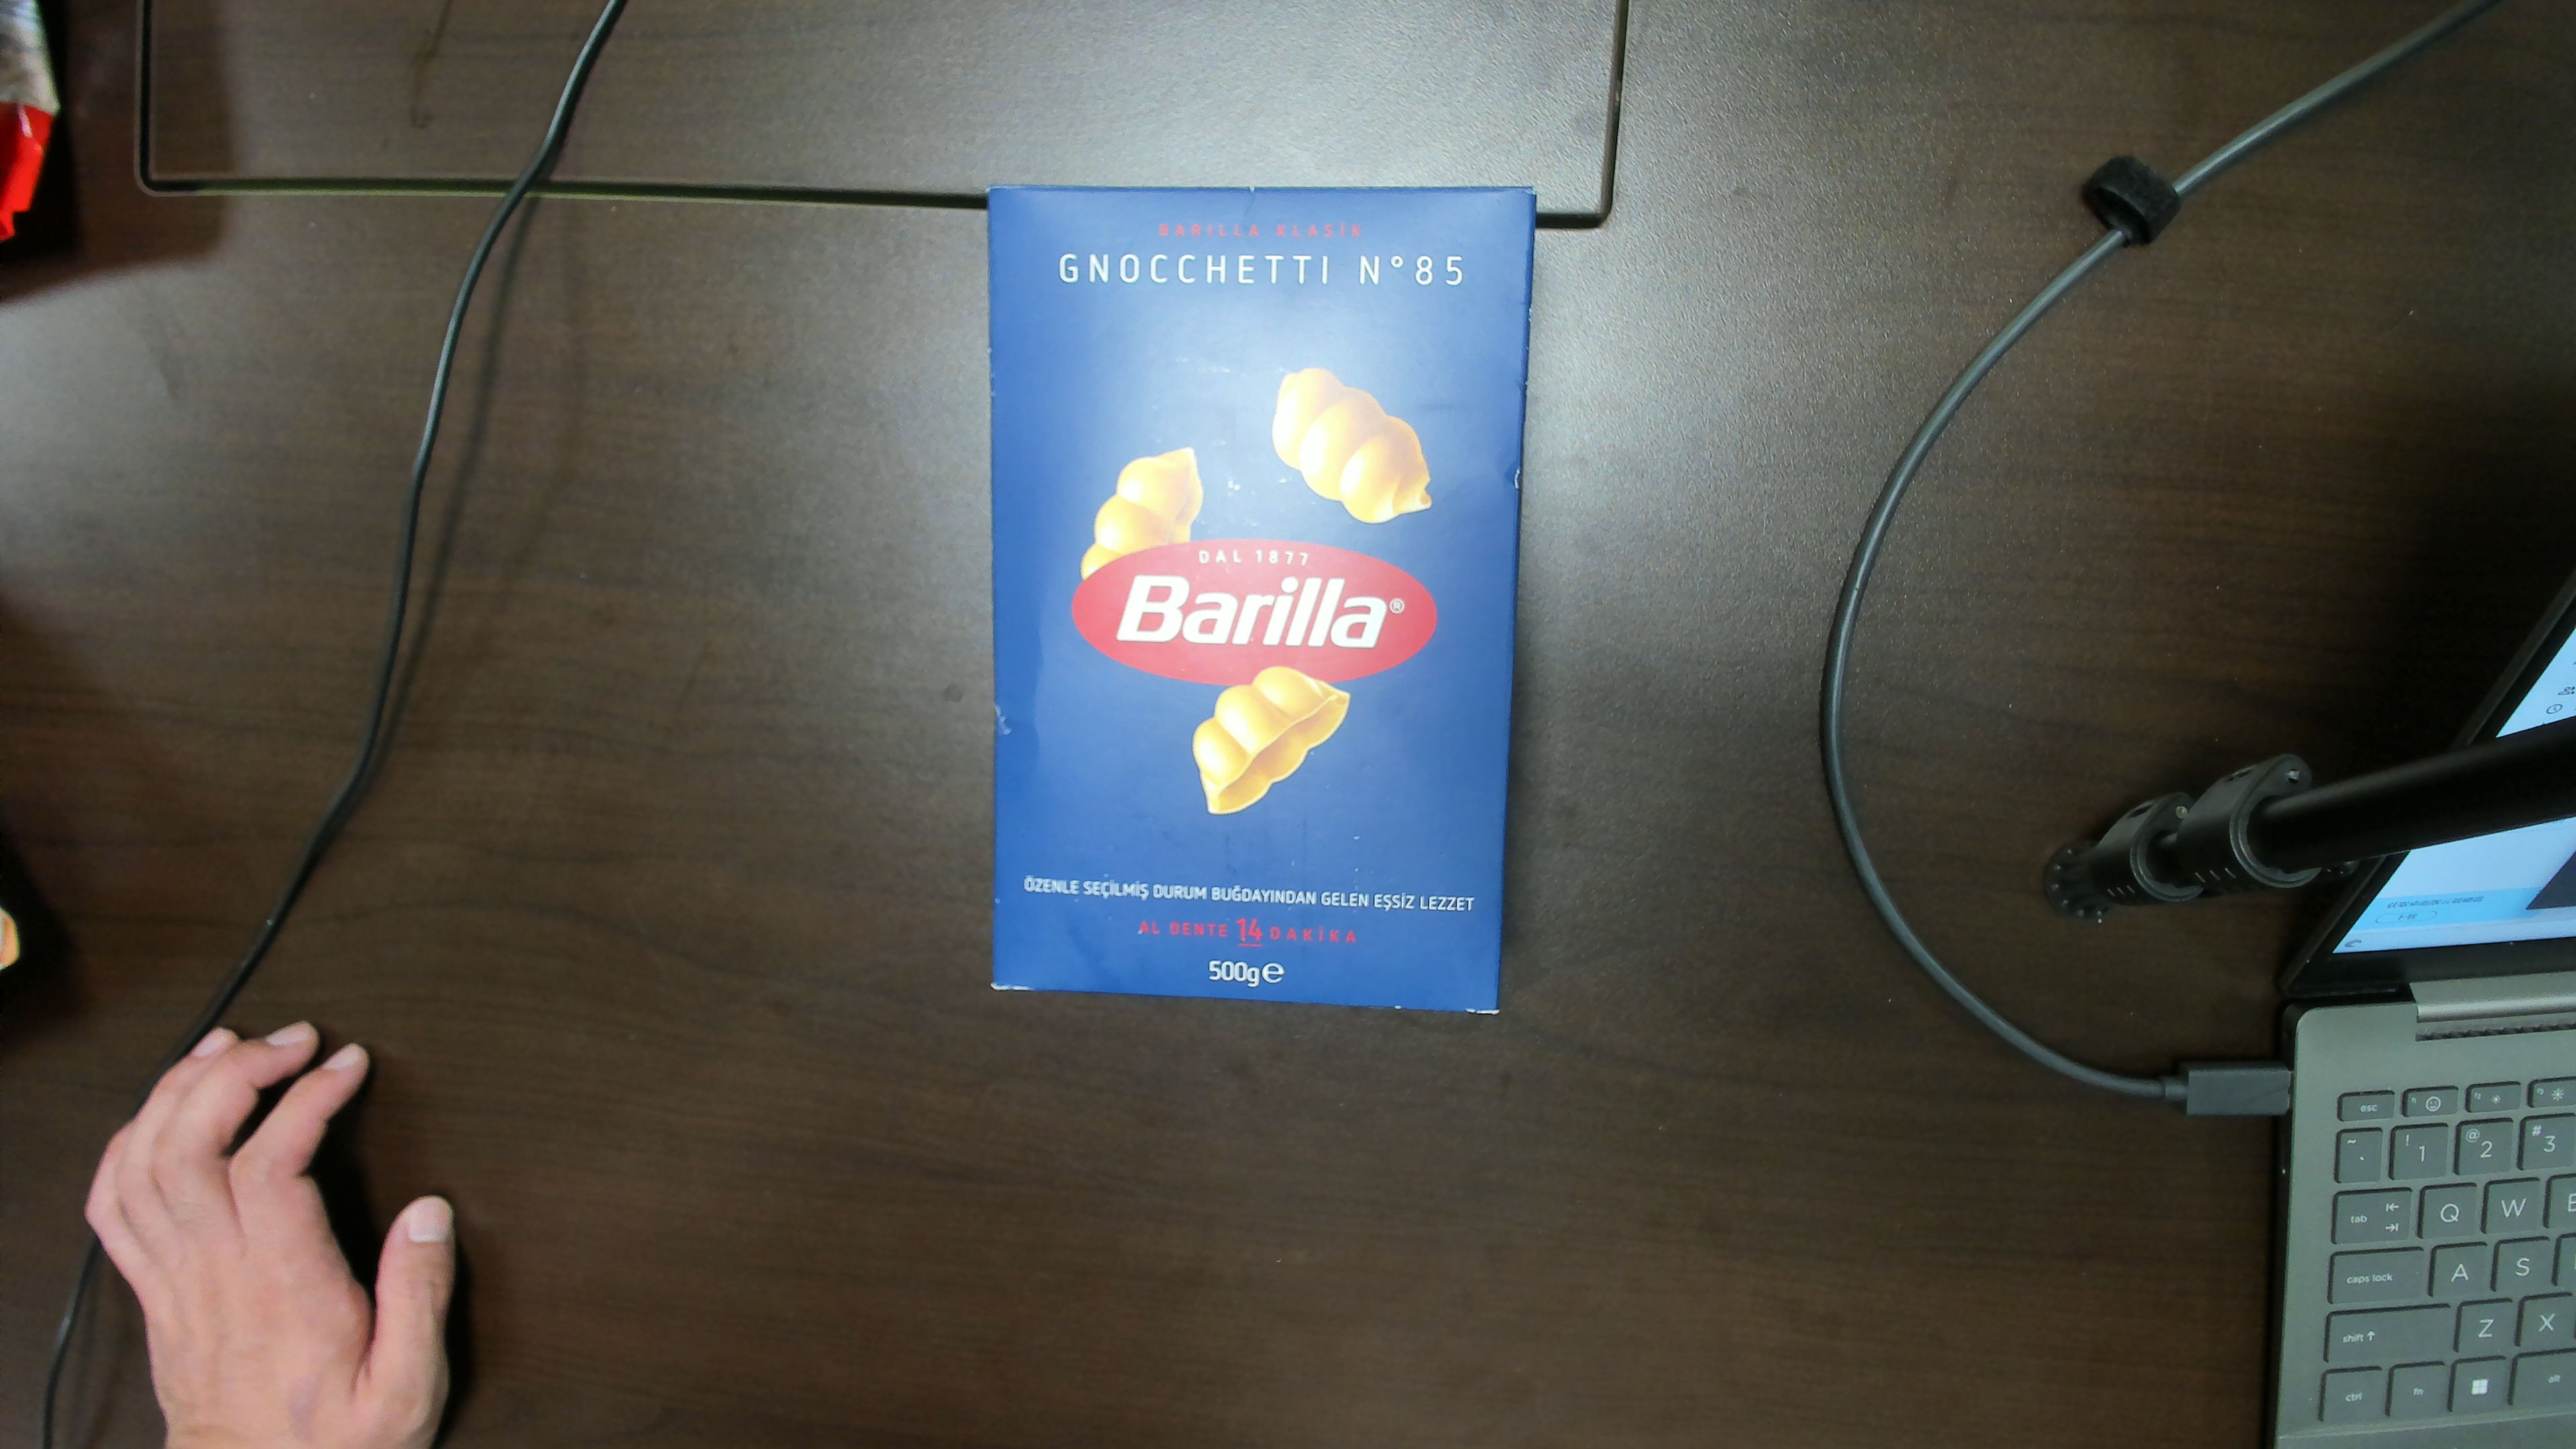Pasta_400-499g_Halal_NonHealthy: (993, 193, 1499, 1008)
